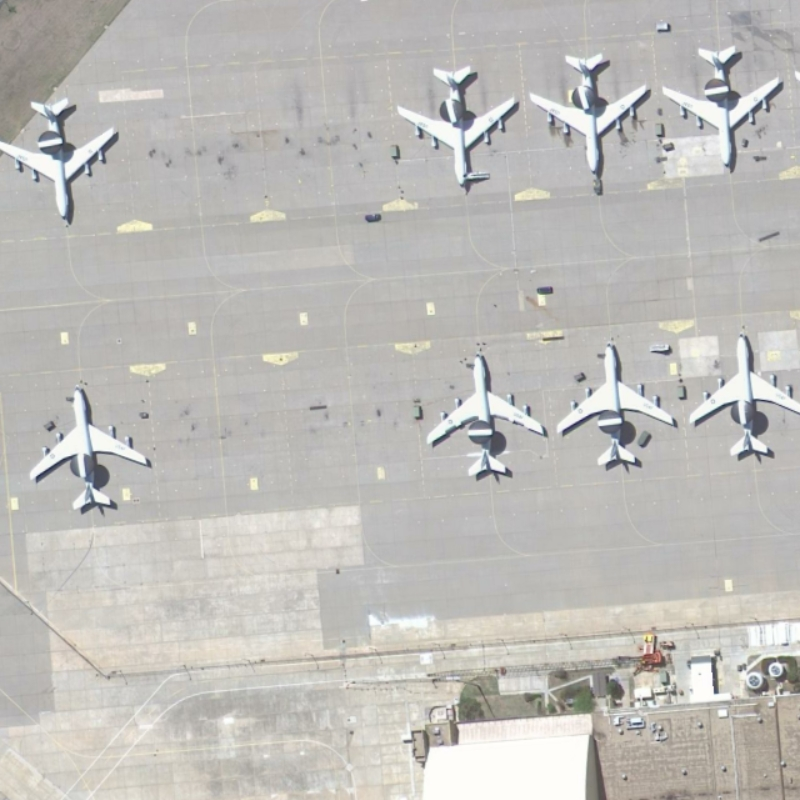A7: (553, 336, 683, 479), (26, 386, 161, 517), (419, 350, 553, 481), (2, 91, 132, 223), (658, 37, 787, 170), (681, 326, 800, 470), (393, 59, 524, 189), (530, 47, 654, 179)
